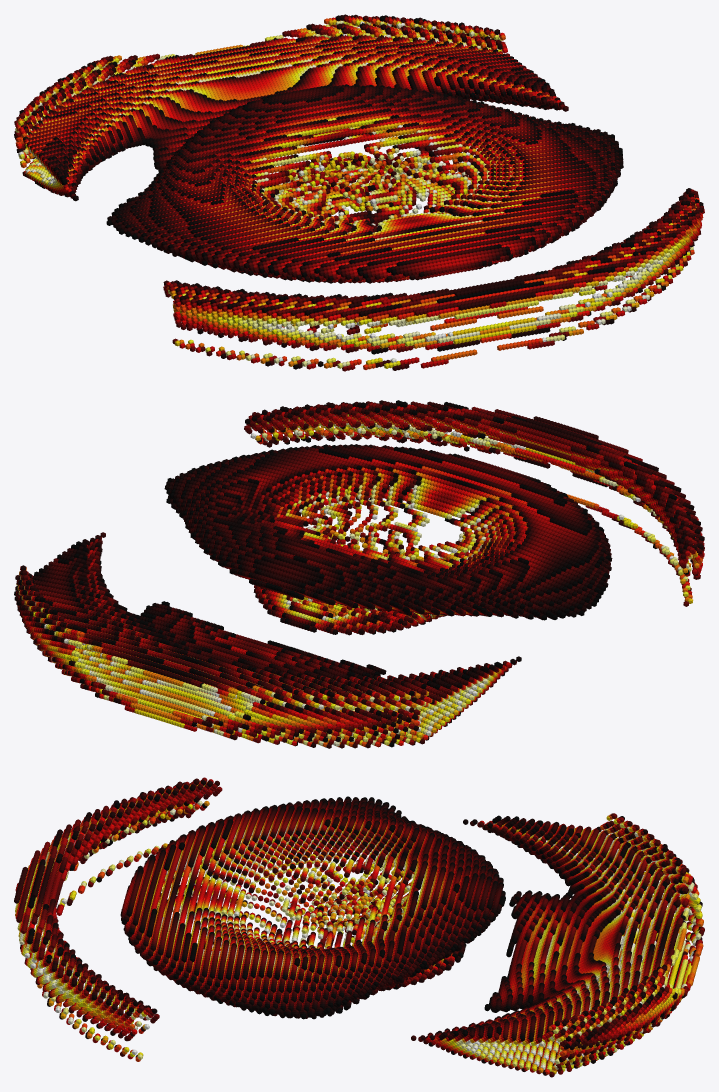
File: PLYparsed.opt.glb
3 renders of one model, top to bottom at view 1: azimuth 30°, elevation 25°; view 2: azimuth 150°, elevation 25°; view 3: azimuth 270°, elevation 25°, orthographic. The views are drawn at different scales.
Visible parts, largest first — view 1: ptCloudsTest; view 2: ptCloudsTest; view 3: ptCloudsTest.
Boxes of the visible parts, <box> form: ptCloudsTest: <box>14,14,704,371</box>; ptCloudsTest: <box>14,400,704,748</box>; ptCloudsTest: <box>14,777,704,1077</box>.
Bounding box in the file's own units: 0.5333 × 0.0884 × 0.6468.
